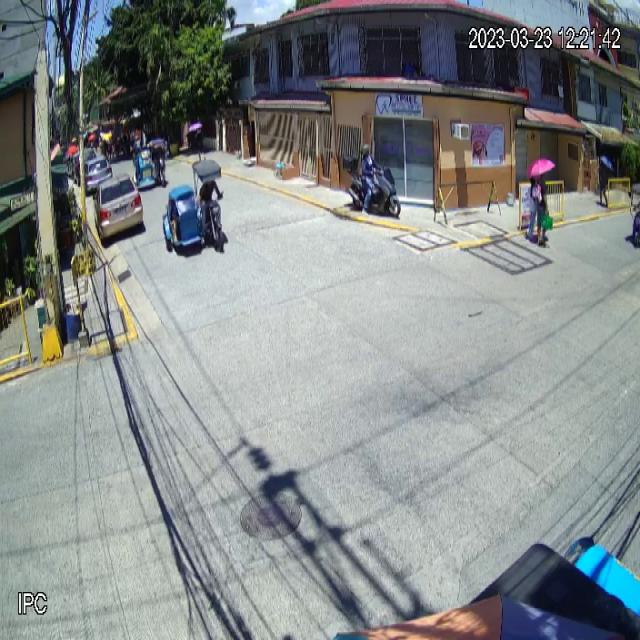Tricycle: (162, 159, 224, 255)
